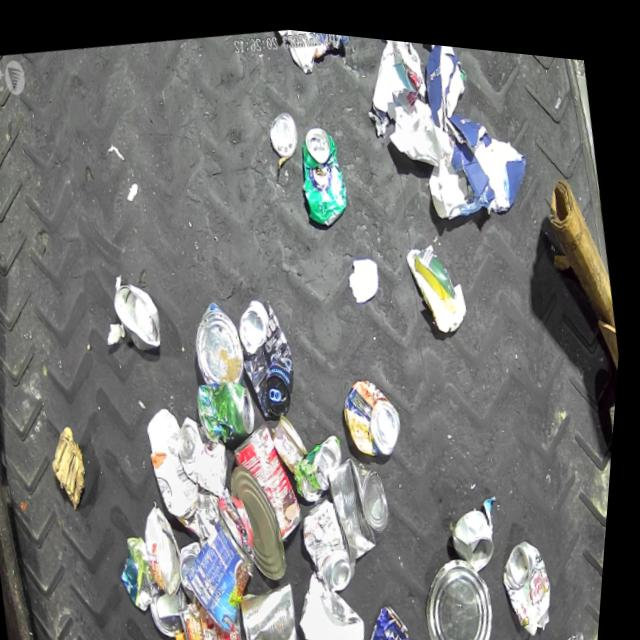can: (182, 502, 280, 639), (229, 410, 319, 544), (232, 286, 312, 418), (325, 442, 409, 561), (420, 538, 514, 640), (229, 453, 303, 582), (501, 522, 571, 630), (301, 486, 372, 590), (293, 113, 359, 224), (341, 364, 415, 456), (177, 403, 245, 500), (189, 291, 257, 385), (145, 497, 199, 597), (242, 570, 316, 640), (200, 369, 269, 444), (111, 270, 173, 352), (294, 423, 358, 501), (452, 495, 509, 568), (184, 589, 264, 640), (360, 587, 427, 640), (273, 404, 320, 471), (154, 579, 203, 638), (182, 534, 219, 599), (266, 103, 304, 155), (606, 385, 621, 481)
